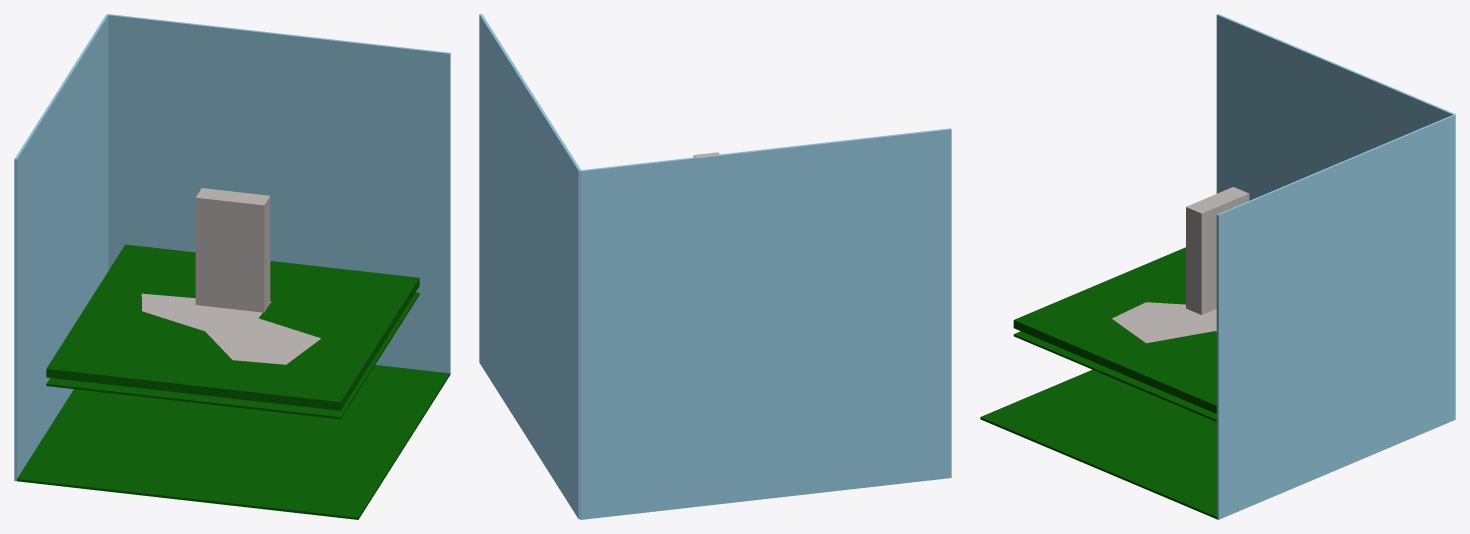
The picture shows the model from 3 angles, left to right: view 1: azimuth 30°, elevation 25°; view 2: azimuth 150°, elevation 25°; view 3: azimuth 270°, elevation 25°; orthographic projection. The views are drawn at different scales.
Parts seen in each view (by area): view 1: wall_other, ground, platform, wall, portrait, spread, lower_skin; view 2: wall, wall_other; view 3: wall_other, wall, ground, platform, portrait, spread, lower_skin.
Part boxes in pixels (x1,y1,x2,y2): wall_other: [108, 14, 450, 374]; ground: [17, 365, 450, 519]; platform: [46, 244, 419, 410]; wall: [14, 14, 108, 481]; portrait: [195, 188, 270, 312]; spread: [141, 293, 320, 364]; lower_skin: [46, 292, 419, 419]; wall: [580, 128, 951, 519]; wall_other: [479, 14, 580, 519]; wall_other: [1216, 114, 1455, 519]; wall: [1216, 14, 1455, 200]; ground: [980, 369, 1217, 519]; platform: [1013, 247, 1216, 413]; portrait: [1186, 187, 1249, 314]; spread: [1112, 302, 1216, 343]; lower_skin: [1013, 331, 1216, 421].
Size of the model in its own units: 0.2126 by 0.15 by 0.2122.
